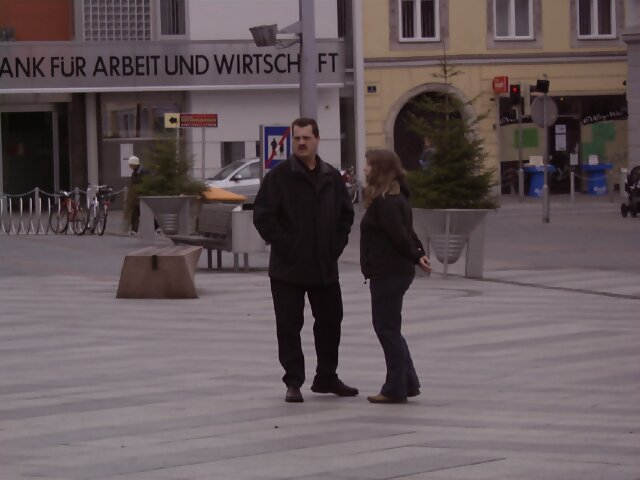person: (252, 115, 362, 406), (360, 144, 442, 408)
